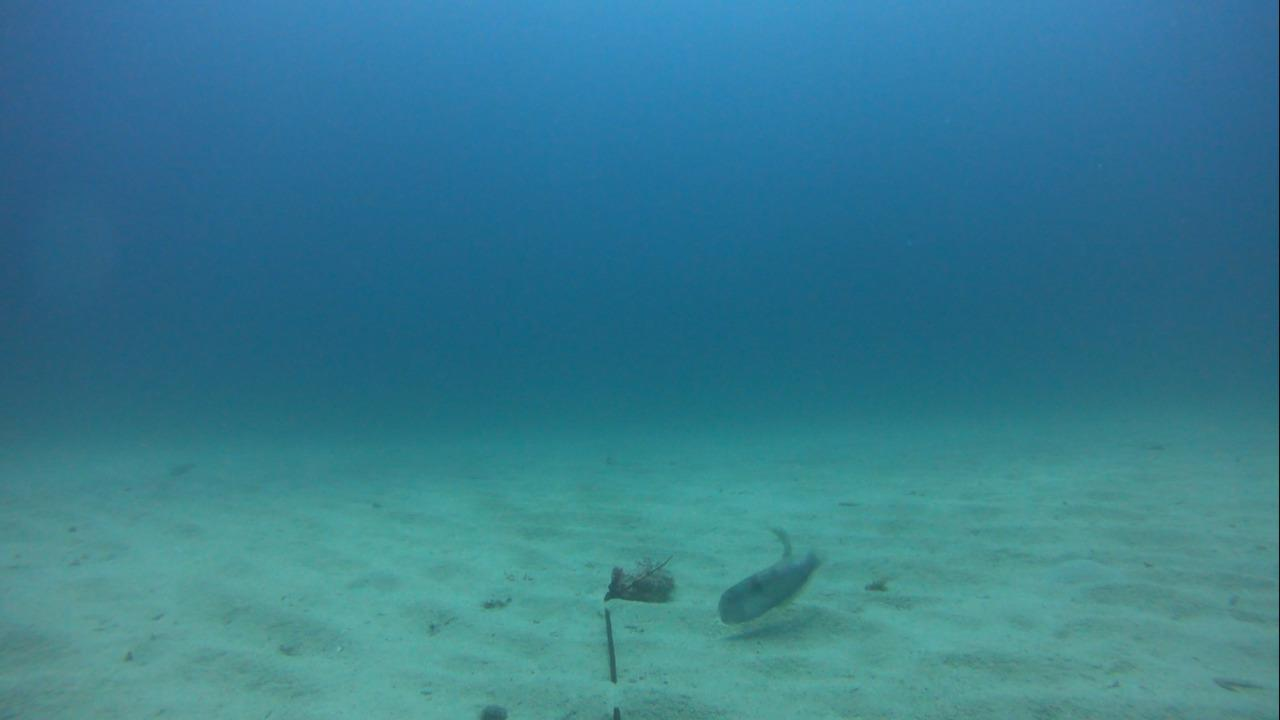raor: (715, 547, 825, 628)
